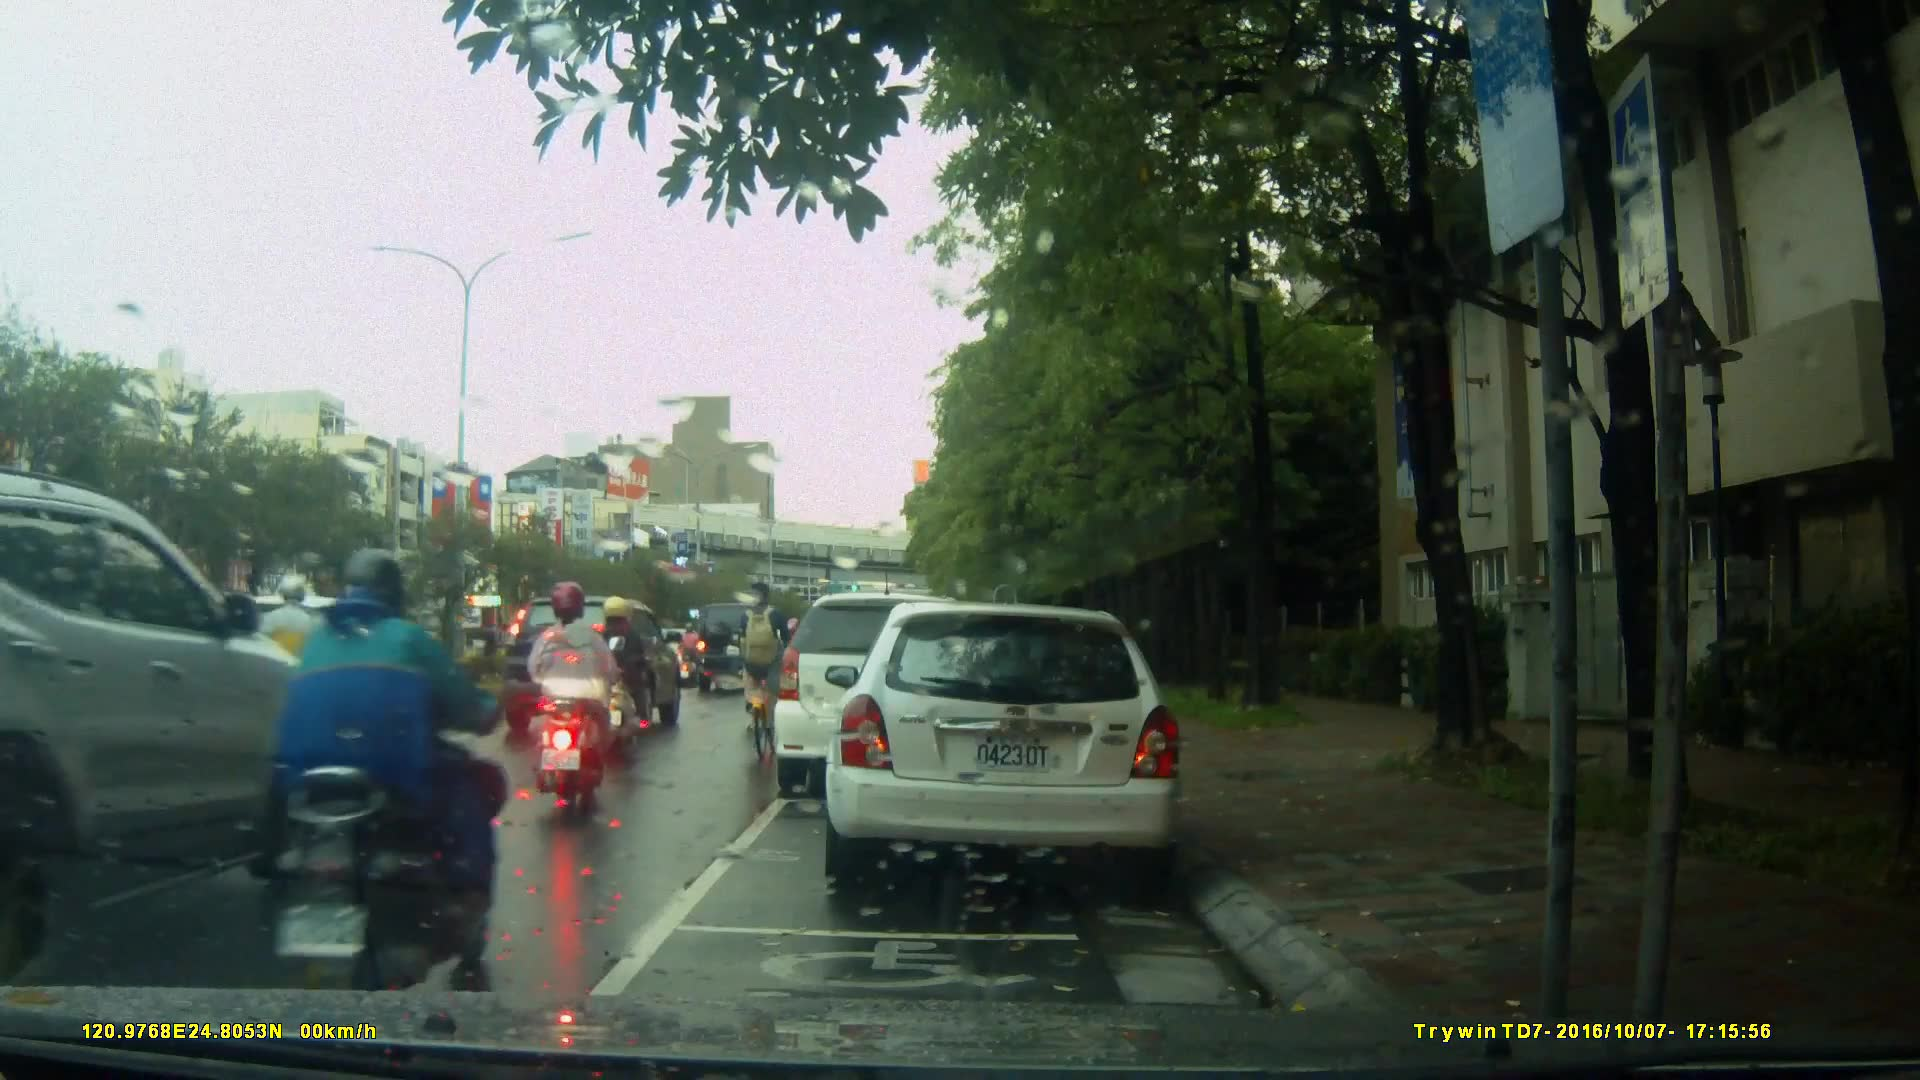rider: (264, 546, 503, 1030), (531, 582, 629, 812), (733, 583, 792, 762), (592, 594, 655, 758), (675, 620, 706, 684)
vehicle: (1, 471, 383, 986), (822, 604, 1188, 883), (774, 595, 995, 802), (498, 594, 686, 743)
